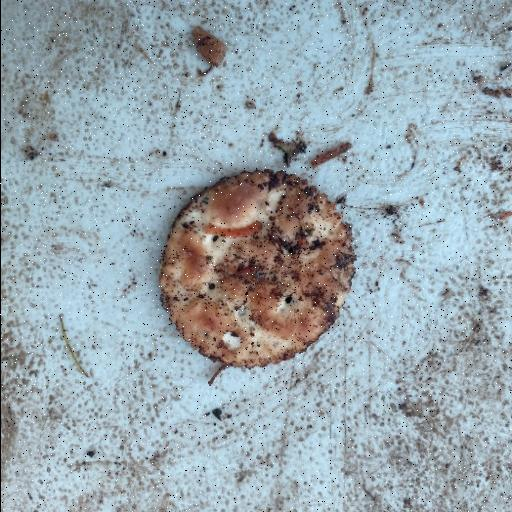Waste: (2, 1, 511, 509), (158, 167, 358, 370)
